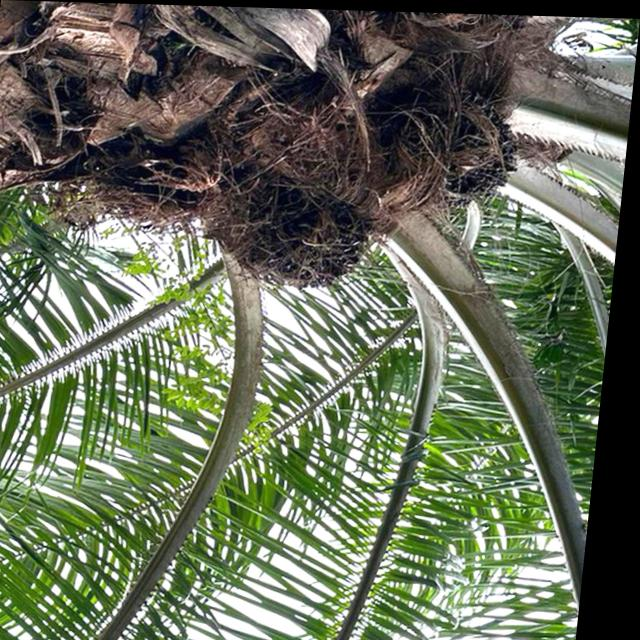almost: (239, 177, 389, 300)
